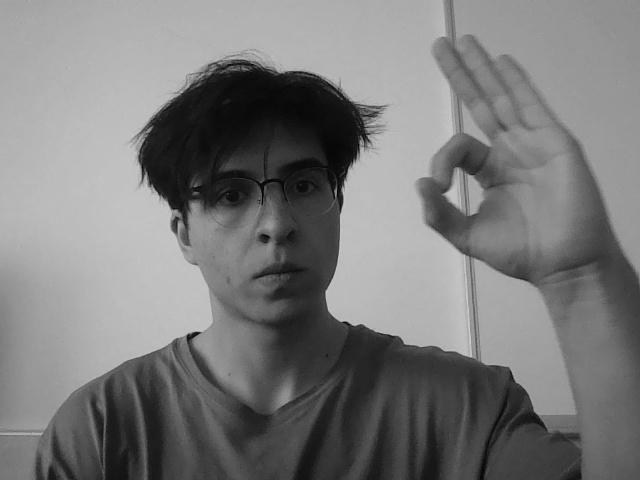OK: (417, 31, 614, 289)
